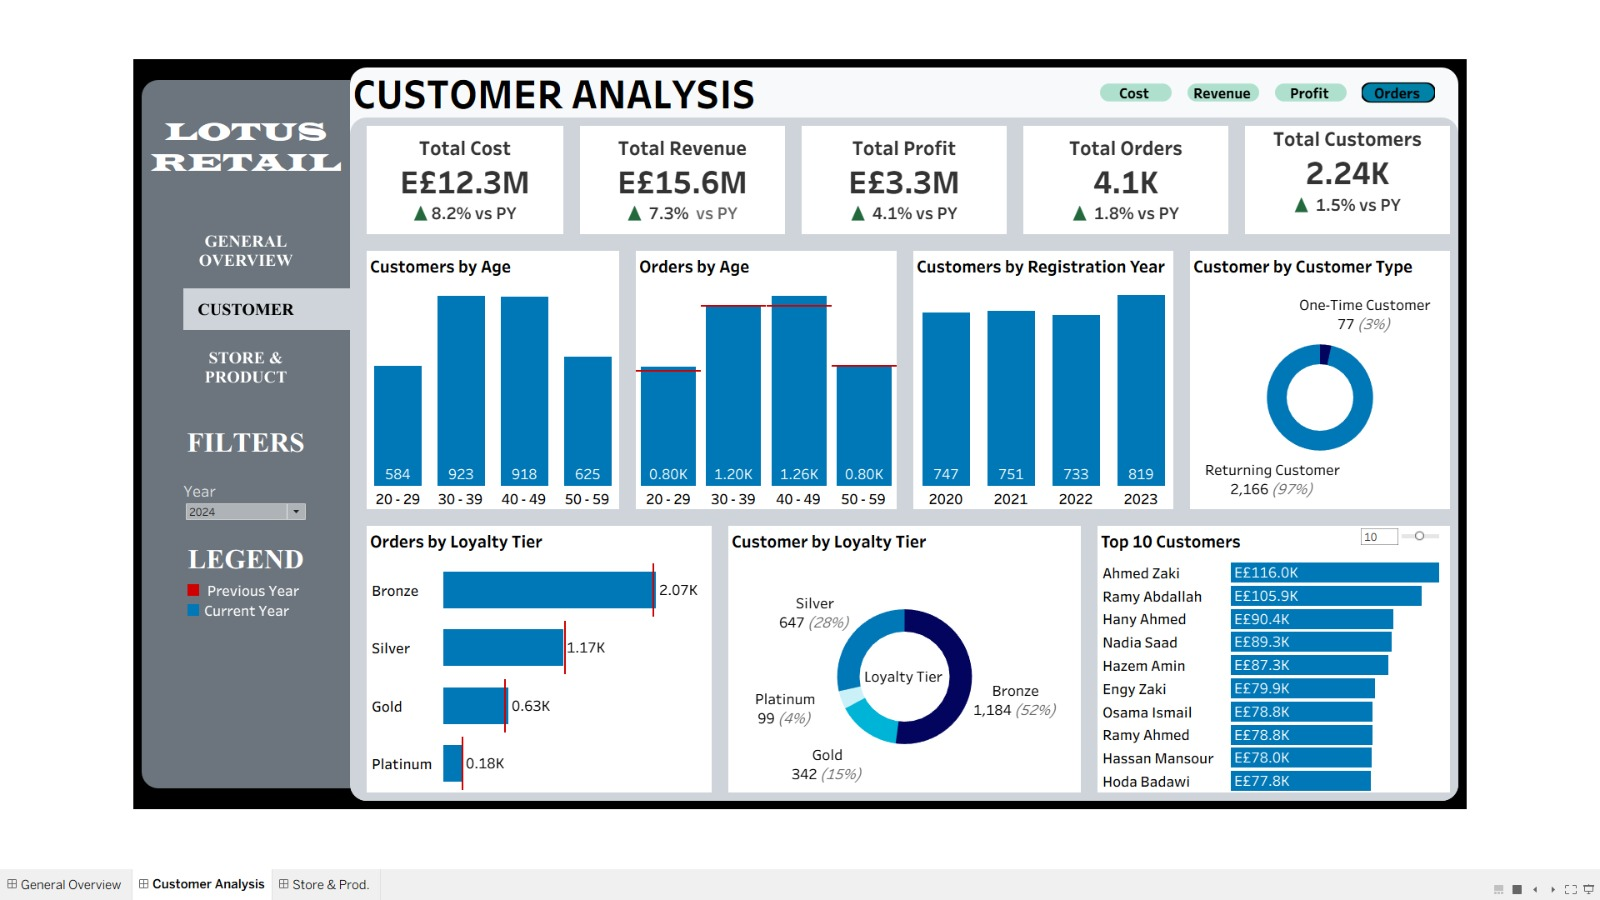

The page's visual inventory and layout, read from the dashboard file:
{"tool":"tableau","page":{"name":"Customer Analysis","canvas":[1600,900],"ordinal":0},"visuals":[{"type":"text","box":[260,10,890,60]},{"type":"worksheet","title":"Buttons","mark":"Shape","cols":["Calculation_0874970443321350","Calculation_0874970443321350","Calculation_0874970443321350","Calculation_0874970443321350"],"box":[1150,10,420,60]},{"type":"blank","box":[10,25,250,10]},{"type":"text","box":[10,35,250,140]},{"type":"worksheet","title":"Cost","mark":"Automatic","box":[280,80,236,130]},{"type":"worksheet","title":"Rev.","mark":"Automatic","box":[536,80,246,130]},{"type":"worksheet","title":"Profit","mark":"Automatic","box":[802,80,246,130]},{"type":"worksheet","title":"Orders","mark":"Automatic","box":[1068,80,246,130]},{"type":"worksheet","title":"Total Customers","mark":"Automatic","box":[1334,80,246,130]},{"type":"blank","box":[10,175,250,30]},{"type":"dashboard-object","box":[60,205,150,50]},{"type":"worksheet","title":"Cus by Age","mark":"Automatic","rows":["customer_id"],"cols":["Age (bin)"],"box":[280,230,303,310]},{"type":"worksheet","title":"Age","mark":"Automatic","rows":["Calculation_0373592491970560","Calculation_0373592493252610"],"cols":["Age (bin)"],"box":[603,230,313,310]},{"type":"worksheet","title":"Customer Join Date","mark":"Bar","rows":["customer_id"],"cols":["registration_date"],"box":[936,230,312,310]},{"type":"worksheet","title":"Customer Type","mark":"Pie","cols":["Calculation_1225439418195977","Calculation_1225439418195977"],"box":[1268,230,312,310]},{"type":"blank","box":[10,255,250,20]},{"type":"dashboard-object","box":[60,275,200,50]},{"type":"blank","box":[10,325,250,20]},{"type":"dashboard-object","box":[60,345,150,50]},{"type":"blank","box":[10,395,250,50]},{"type":"text","box":[10,445,250,30]},{"type":"blank","box":[10,475,250,30]},{"type":"parameter","param":"[Parameters].[Parameter 1297182227197959]","box":[60,505,150,50]},{"type":"blank","box":[10,555,250,30]},{"type":"worksheet","title":"Loyalty Tier","mark":"Automatic","rows":["loyalty_tier"],"cols":["Calculation_0373592491970560","Calculation_0373592493252610"],"box":[280,560,414,320]},{"type":"worksheet","title":"Loyalty Tier by Cus.","mark":"Pie","rows":["Calculation_1225439412301825","Calculation_1225439412301825"],"box":[714,560,423,320]},{"type":"worksheet","title":"Top Customers","mark":"Automatic","rows":["full_name"],"cols":["Calculation_1297182227521545"],"box":[1157,560,423,320]},{"type":"parameter","param":"[Parameters].[Parameter 1225439415734277]","box":[1470,560,100,35]},{"type":"text","box":[10,585,250,30]},{"type":"blank","box":[10,615,250,10]},{"type":"legend","title":"Loyalty Tier","param":"[federated.0mt75gr1jol0vg19zrq0202gwl9p].[:Measure Names]","box":[60,625,150,50]}]}

Visuals, with their boxes on the page's 1600x900 design canvas (x1, y1, x2, y2). These are canvas units, not pixel positions in the 1600x900 screenshot, which may show the page scaled, cropped or inside an application window:
text: BBox(260, 10, 1150, 70)
"Buttons" worksheet (Shape marks): BBox(1150, 10, 1570, 70)
blank: BBox(10, 25, 260, 35)
text: BBox(10, 35, 260, 175)
"Cost" worksheet: BBox(280, 80, 516, 210)
"Rev." worksheet: BBox(536, 80, 782, 210)
"Profit" worksheet: BBox(802, 80, 1048, 210)
"Orders" worksheet: BBox(1068, 80, 1314, 210)
"Total Customers" worksheet: BBox(1334, 80, 1580, 210)
blank: BBox(10, 175, 260, 205)
dashboard-object: BBox(60, 205, 210, 255)
"Cus by Age" worksheet: BBox(280, 230, 583, 540)
"Age" worksheet: BBox(603, 230, 916, 540)
"Customer Join Date" worksheet (Bar marks): BBox(936, 230, 1248, 540)
"Customer Type" worksheet (Pie marks): BBox(1268, 230, 1580, 540)
blank: BBox(10, 255, 260, 275)
dashboard-object: BBox(60, 275, 260, 325)
blank: BBox(10, 325, 260, 345)
dashboard-object: BBox(60, 345, 210, 395)
blank: BBox(10, 395, 260, 445)
text: BBox(10, 445, 260, 475)
blank: BBox(10, 475, 260, 505)
parameter: BBox(60, 505, 210, 555)
blank: BBox(10, 555, 260, 585)
"Loyalty Tier" worksheet: BBox(280, 560, 694, 880)
"Loyalty Tier by Cus." worksheet (Pie marks): BBox(714, 560, 1137, 880)
"Top Customers" worksheet: BBox(1157, 560, 1580, 880)
parameter: BBox(1470, 560, 1570, 595)
text: BBox(10, 585, 260, 615)
blank: BBox(10, 615, 260, 625)
"Loyalty Tier" legend: BBox(60, 625, 210, 675)
